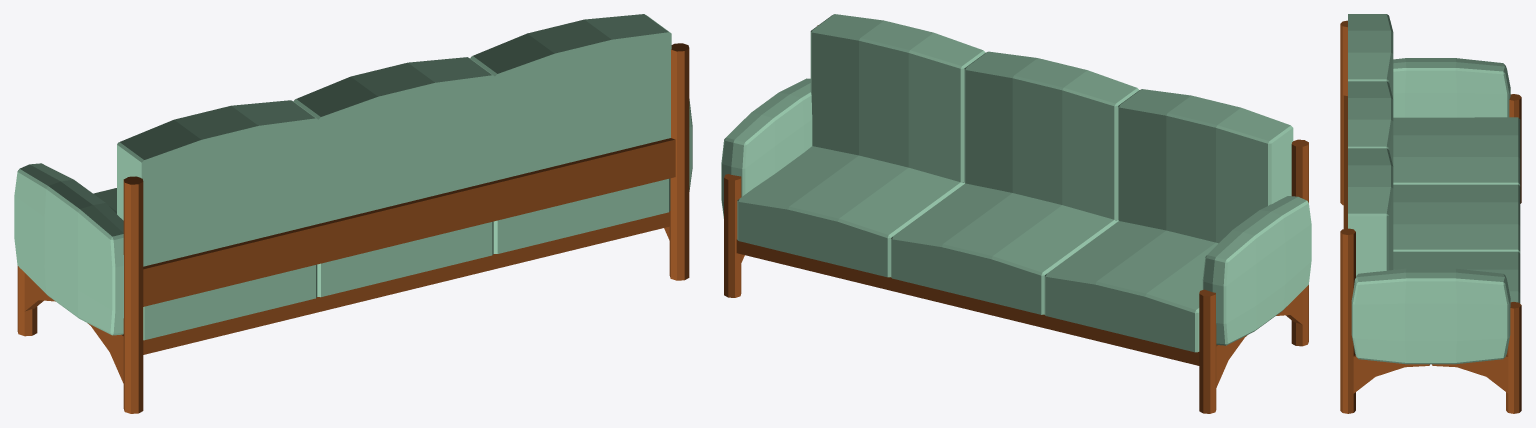
The model's file is Sofa 3.fbx.
The picture shows the model from 3 angles, left to right: view 1: azimuth 30°, elevation 25°; view 2: azimuth 150°, elevation 25°; view 3: azimuth 270°, elevation 25°; orthographic projection. The views are drawn at different scales.
Parts seen in each view (by area): view 1: Node 0; view 2: Node 0; view 3: Node 0.
Boxes of the visible parts, <box> form: Node 0: <box>14,14,692,413</box>; Node 0: <box>721,14,1311,413</box>; Node 0: <box>1340,14,1521,413</box>.
Bounding box in the file's own units: 0.6584 × 0.7917 × 1.91.
